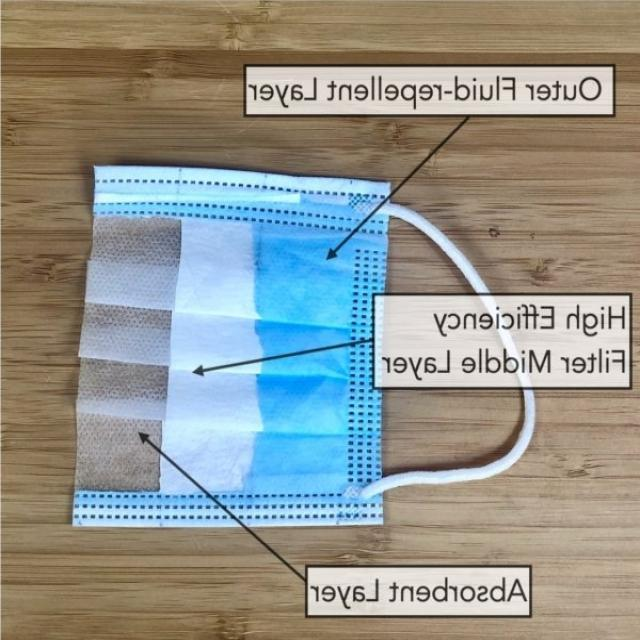face mask: (69, 157, 539, 541)
